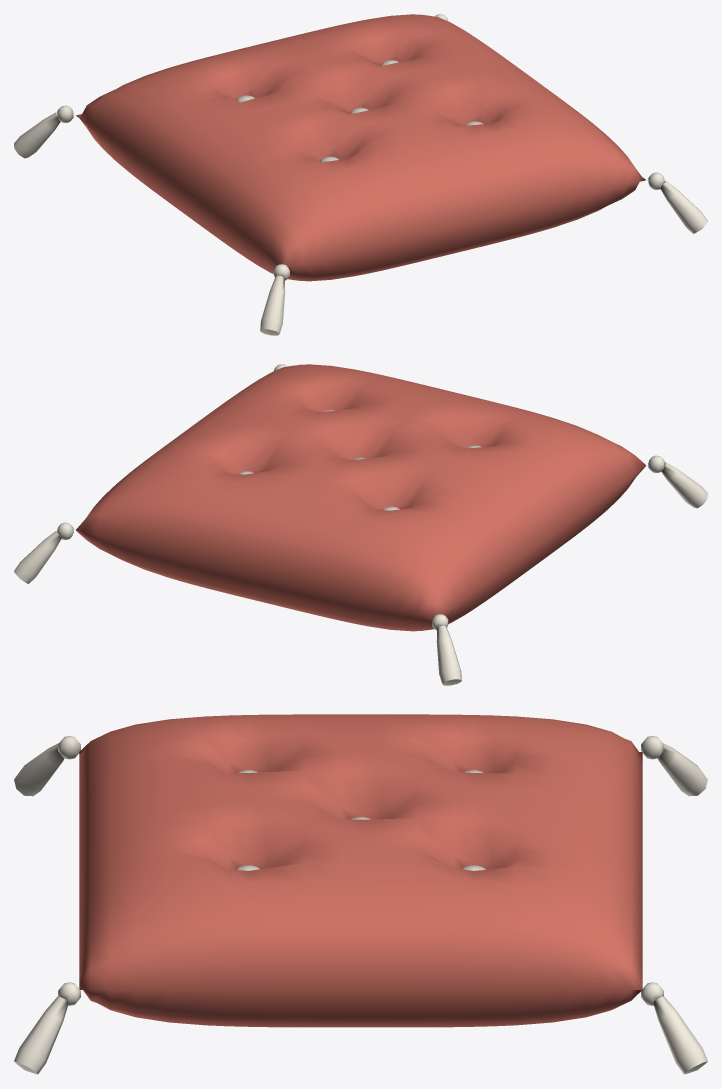
The model's file is junk_pillow_s.glb.
3 renders of one model, top to bottom at view 1: azimuth 30°, elevation 25°; view 2: azimuth 150°, elevation 25°; view 3: azimuth 270°, elevation 25°, orthographic. The views are drawn at different scales.
Visible parts, largest first — view 1: PART; view 2: PART; view 3: PART.
Boxes of the visible parts, box(x1,y1,x2,y2) form: PART: box(14, 14, 707, 335); PART: box(14, 364, 707, 685); PART: box(14, 714, 707, 1074).
Bounding box in the file's own units: 0.493 × 0.1198 × 0.493.
